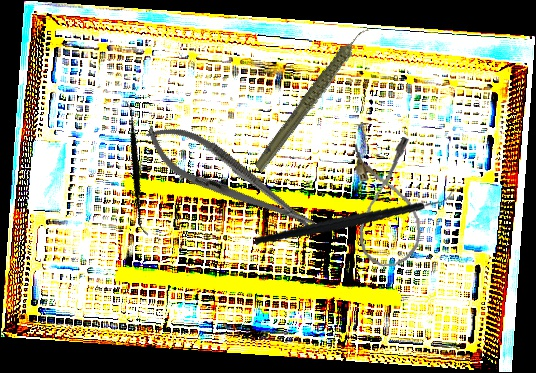Cannula: (351, 136, 424, 269)
Chopper: (254, 161, 456, 271)
Handpiece: (230, 25, 397, 174)
Needle Holder: (135, 110, 326, 249)
Spatula Surgical: (73, 99, 201, 237)
